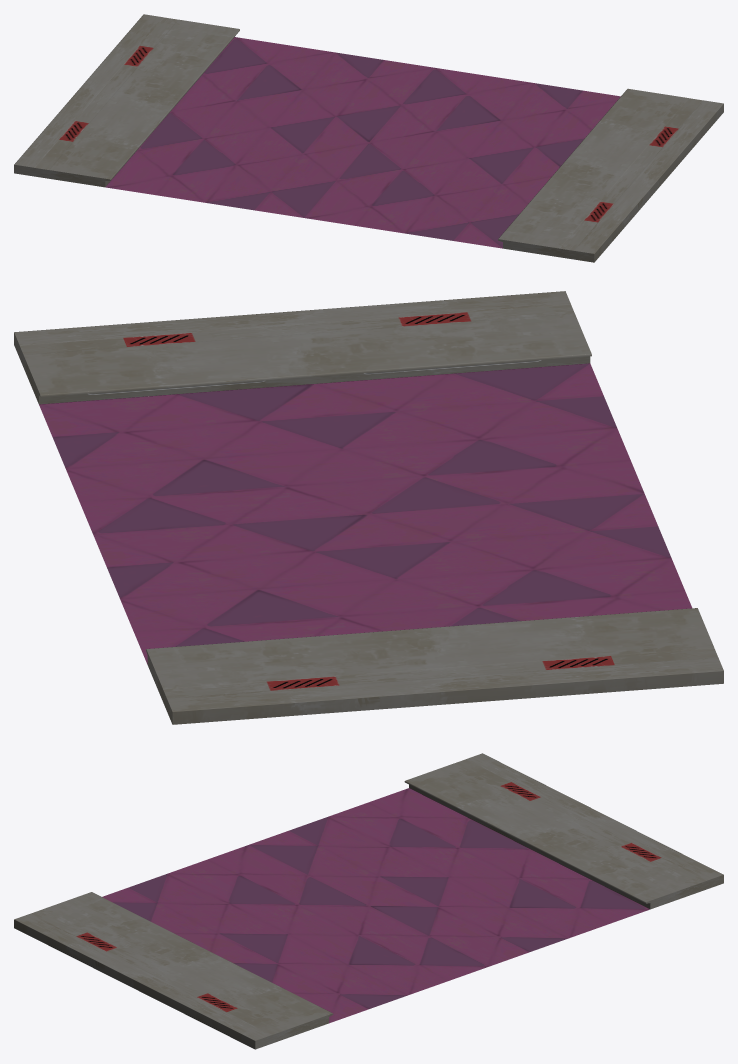
File: PedestrianZone.gltf
3 renders of one model, top to bottom at view 1: azimuth 30°, elevation 25°; view 2: azimuth 150°, elevation 25°; view 3: azimuth 270°, elevation 25°, orthographic. The views are drawn at different scales.
Parts seen in each view (by area): view 1: SM_Pedestrian_Tile, SM_PedestrianBorder_1, SM_PedestrianBorder; view 2: SM_Pedestrian_Tile, SM_PedestrianBorder, SM_PedestrianBorder_1; view 3: SM_Pedestrian_Tile, SM_PedestrianBorder_1, SM_PedestrianBorder.
Part boxes in pixels (x1,y1,x2,y2): SM_Pedestrian_Tile: (105, 37, 620, 248); SM_PedestrianBorder_1: (498, 88, 723, 262); SM_PedestrianBorder: (14, 14, 239, 187); SM_Pedestrian_Tile: (39, 363, 692, 664); SM_PedestrianBorder: (146, 608, 723, 724); SM_PedestrianBorder_1: (14, 291, 591, 404); SM_Pedestrian_Tile: (102, 788, 649, 1023); SM_PedestrianBorder_1: (14, 892, 333, 1049); SM_PedestrianBorder: (404, 753, 723, 909).
Size of the model in its own units: 10.88 by 0.1528 by 11.35.
